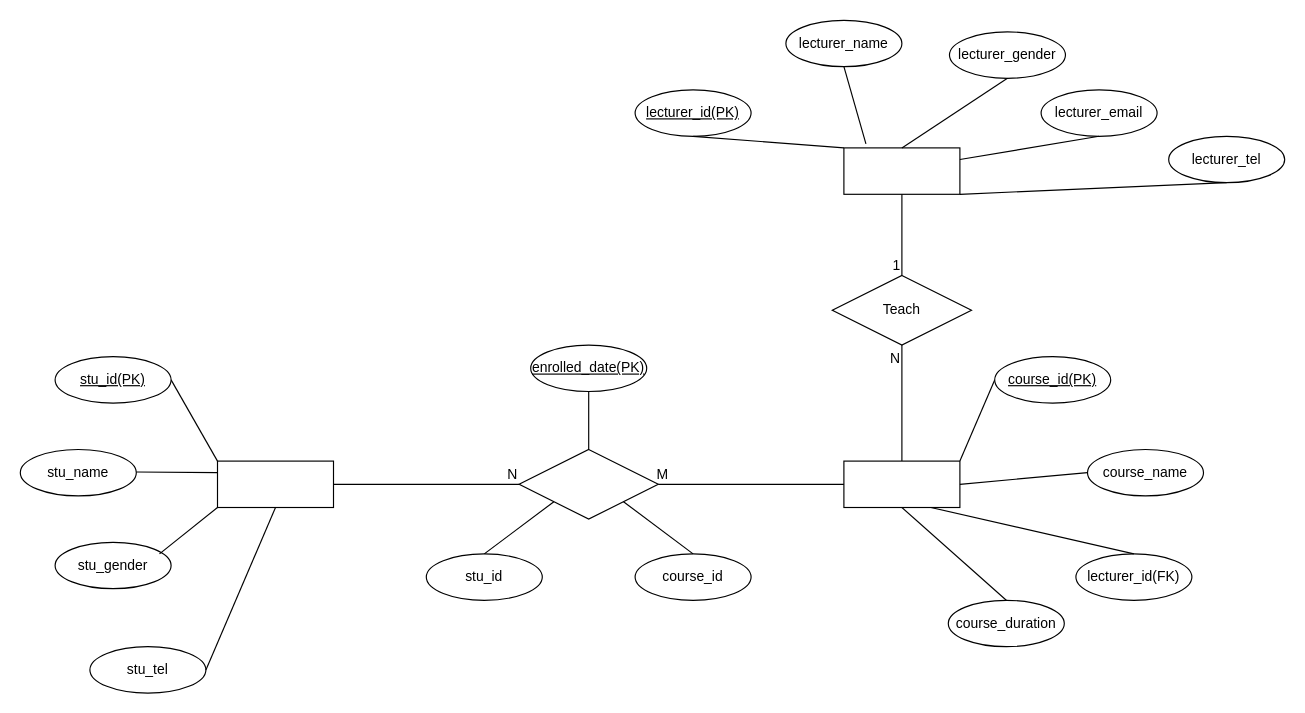
Image size: 1305x713. Some labels were removed from this diagram. Each missing label, with the centre of its shape:
"Course" goes at pixel 901 483.
"Enrolled in" goes at pixel 588 483.
"Lecturer" goes at pixel 901 170.
"Student" goes at pixel 275 483.
